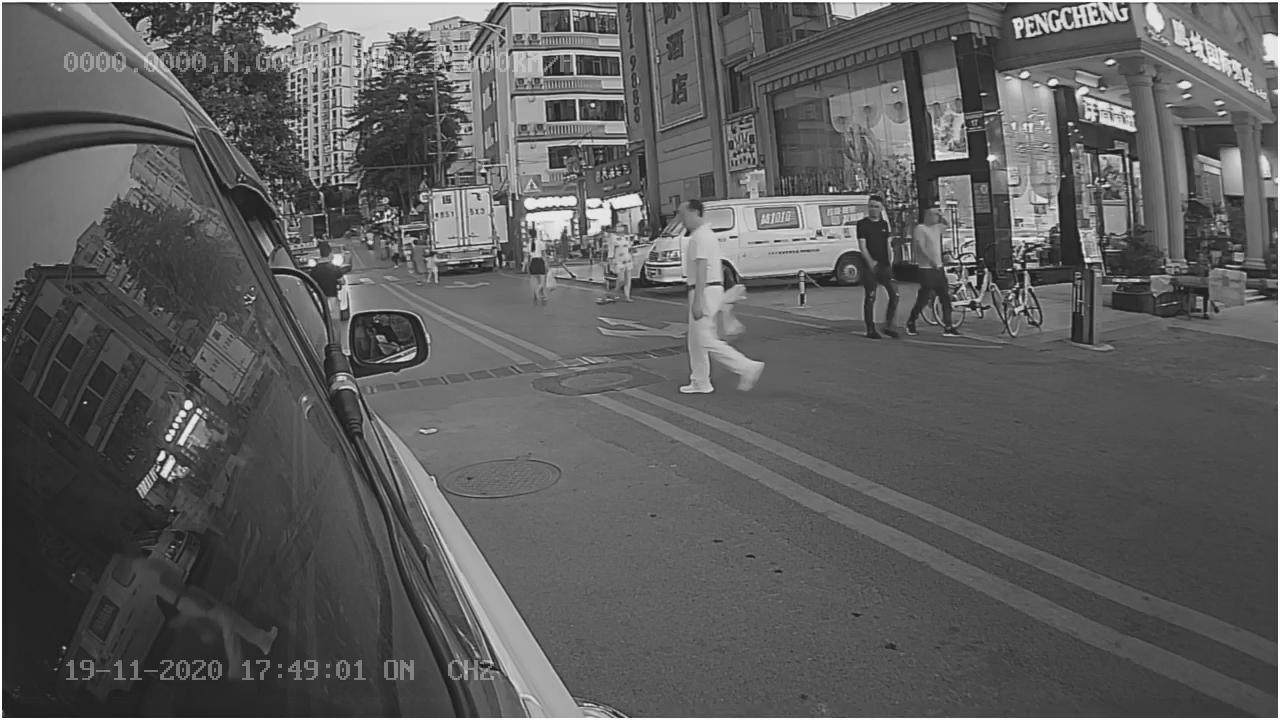person: (667, 197, 765, 405)
